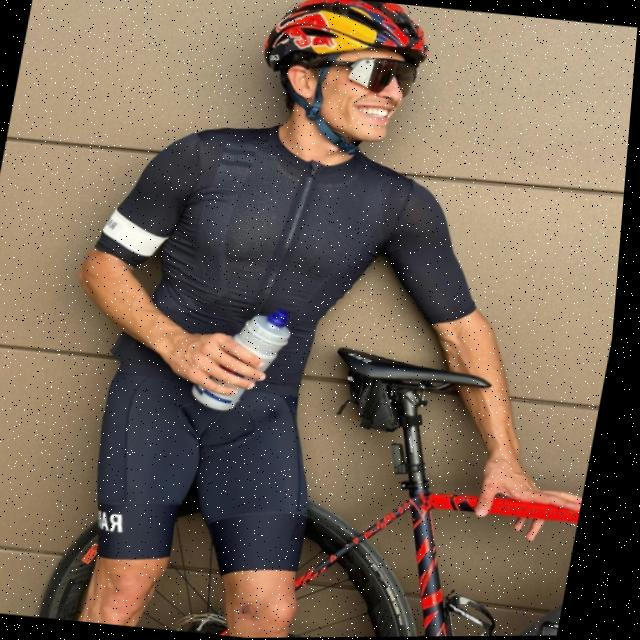illegal_helmet: (244, 0, 444, 164)
